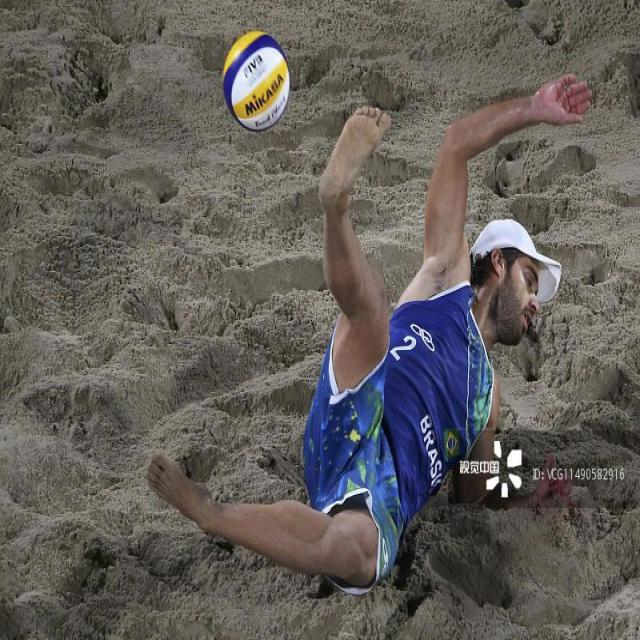fall: (150, 77, 592, 593)
